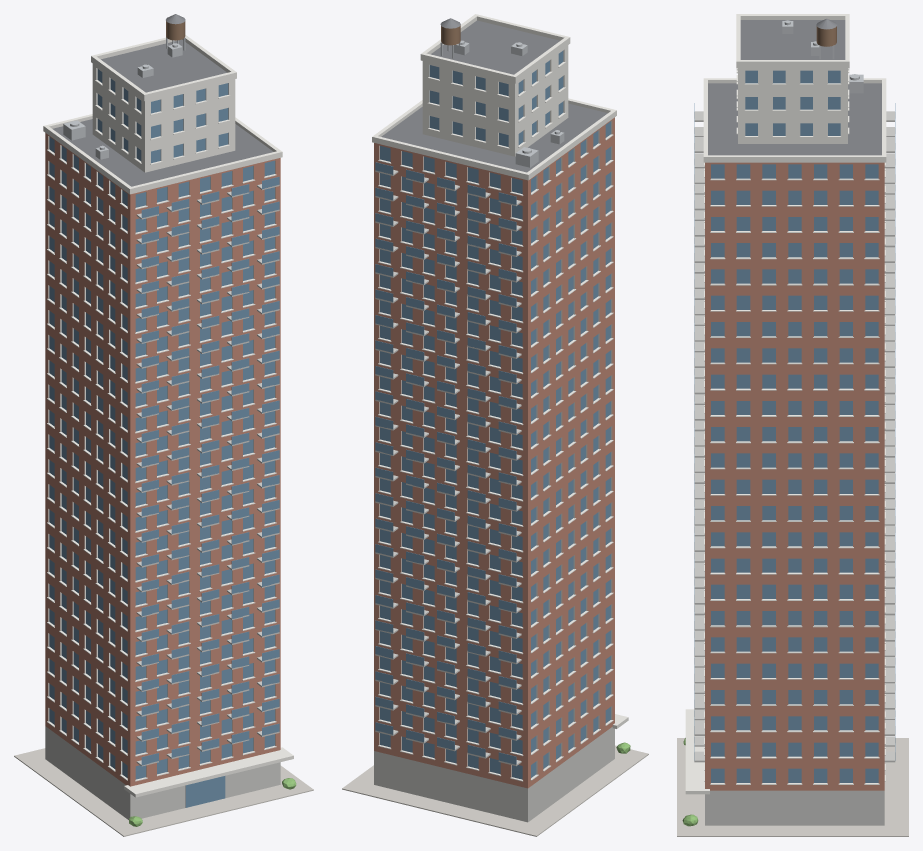
3 renders of one model, left to right at view 1: azimuth 30°, elevation 25°; view 2: azimuth 150°, elevation 25°; view 3: azimuth 270°, elevation 25°, orthographic. The views are drawn at different scales.
Visible parts, largest first — view 1: r_3_2_b; view 2: r_3_2_b; view 3: r_3_2_b.
Part boxes in pixels (x1,y1,x2,y2): r_3_2_b: (14, 14, 313, 836); r_3_2_b: (342, 14, 648, 836); r_3_2_b: (677, 14, 908, 836).
Size of the model in its own units: 24 by 89.42 by 24.
